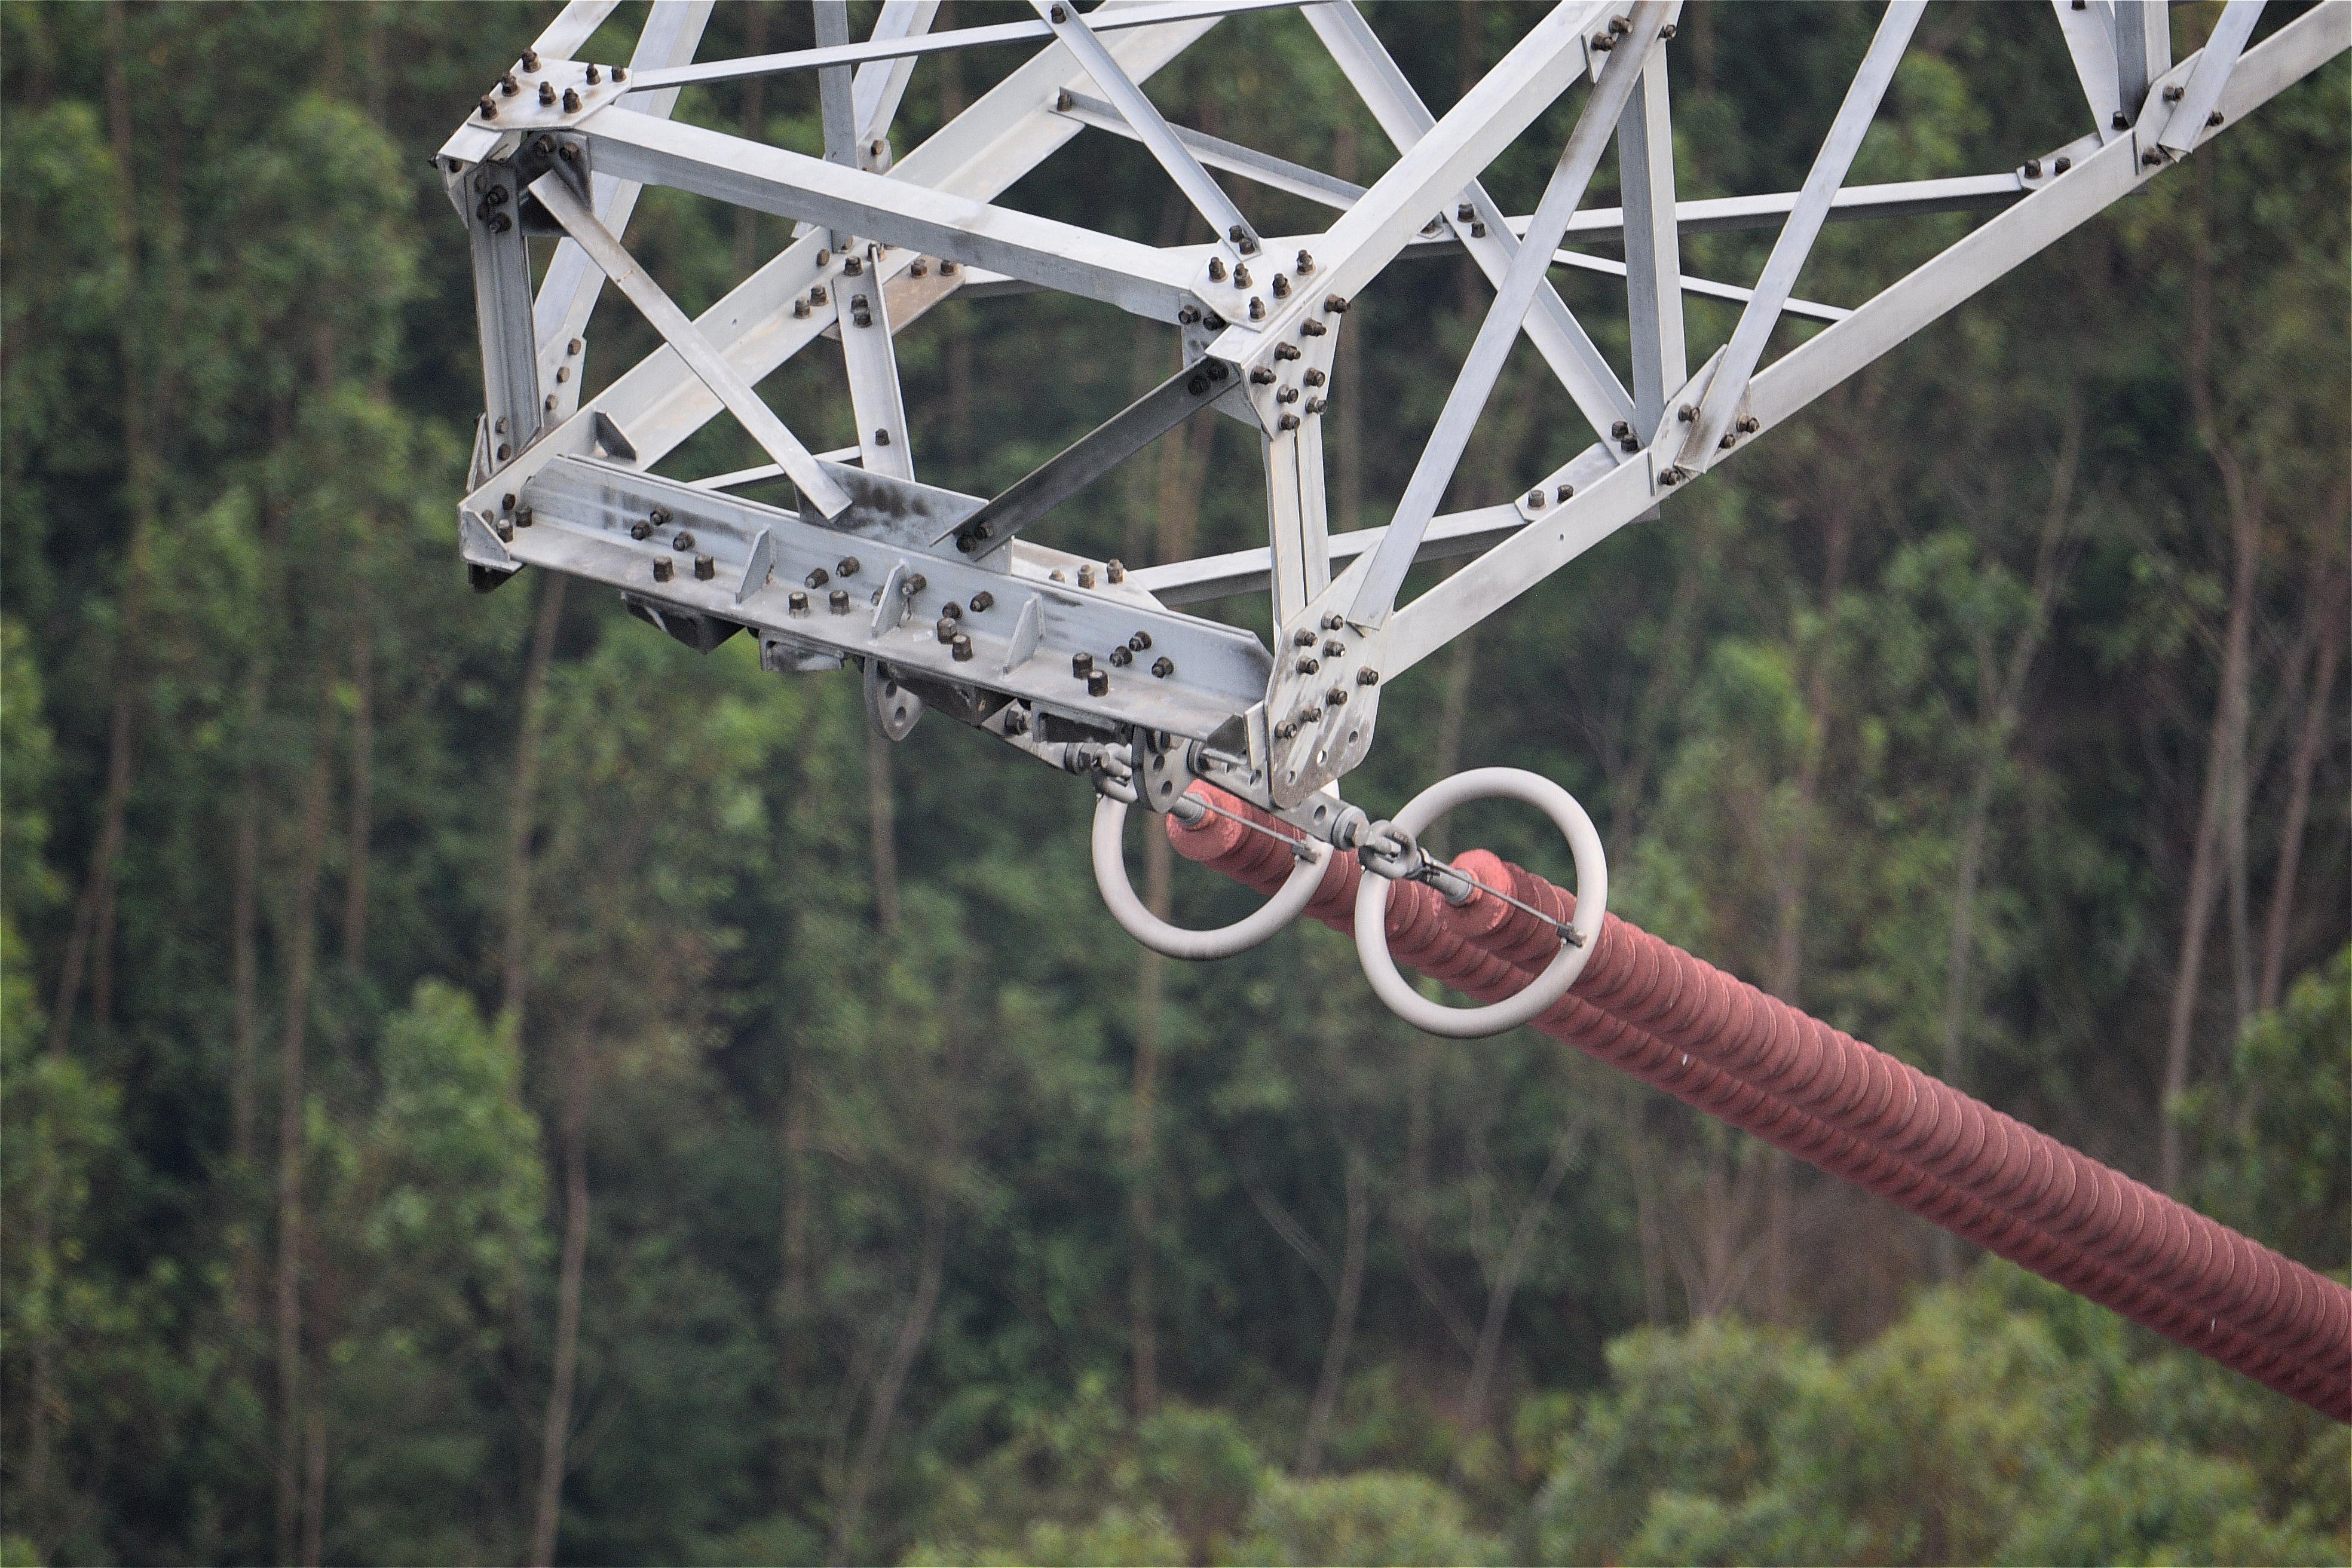insultor1: (1185, 712, 2352, 1452)
